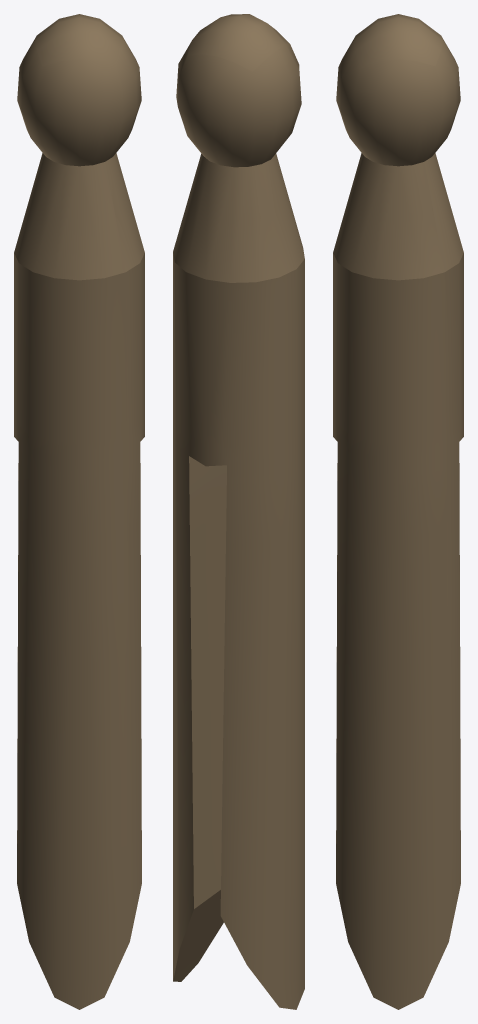
File: dolly_peg.glb
The picture shows the model from 3 angles, left to right: view 1: azimuth 90°, elevation 25°; view 2: azimuth 150°, elevation 25°; view 3: azimuth 270°, elevation 25°; orthographic projection.
Visible parts, largest first — view 1: dolly_peg; view 2: dolly_peg; view 3: dolly_peg.
Part boxes in pixels (<box>): dolly_peg: <box>14,14,144,1009</box>; dolly_peg: <box>173,14,304,1009</box>; dolly_peg: <box>333,14,463,1009</box>.
Bounding box in the file's own units: 0.0148 × 0.1199 × 0.0148.
1 material, 1 textured.
